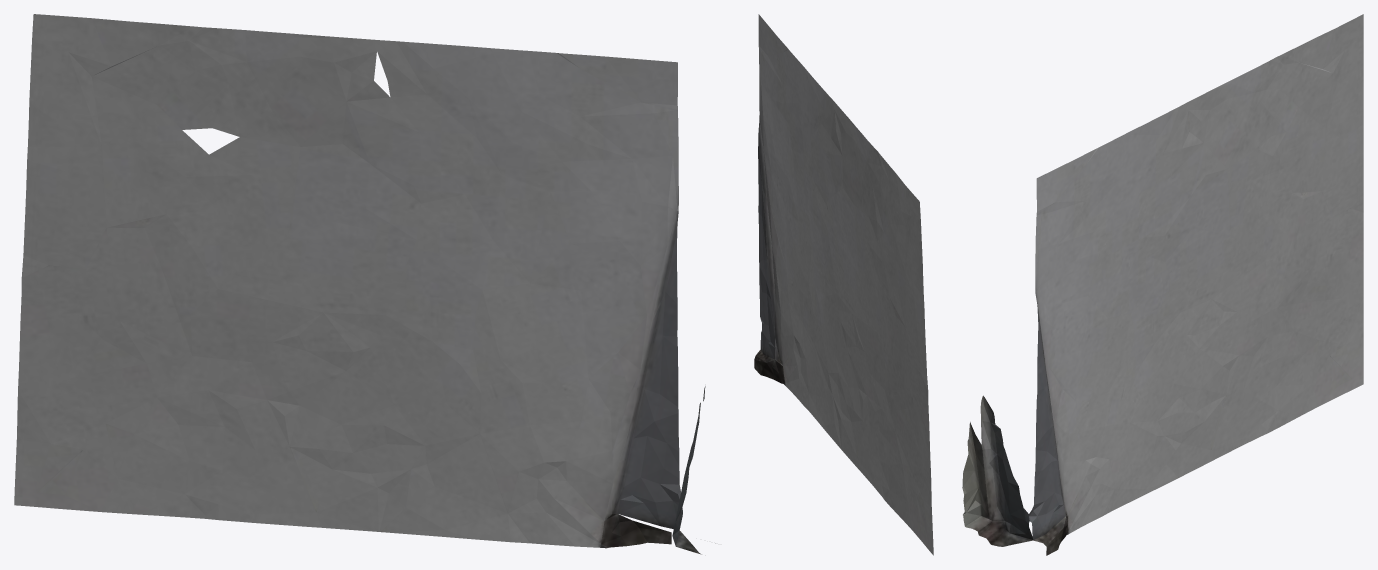
The picture shows the model from 3 angles, left to right: view 1: azimuth 30°, elevation 25°; view 2: azimuth 150°, elevation 25°; view 3: azimuth 270°, elevation 25°; orthographic projection. The views are drawn at different scales.
Size of the model in its own units: 1.63 by 1.67 by 1.61.
3 materials, 3 textured.
